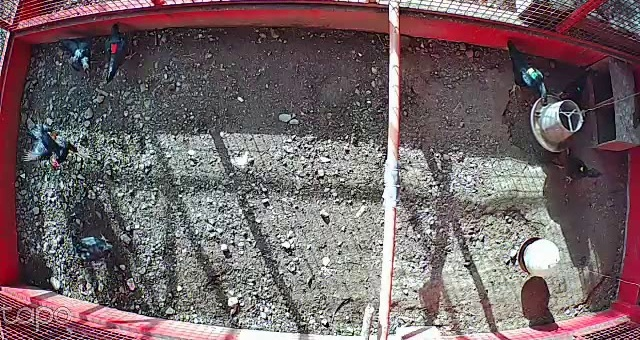Chicken: (503, 40, 550, 107), (57, 228, 121, 266), (102, 22, 139, 85), (547, 67, 596, 107), (550, 152, 604, 188)
Saddle_Color_Red: (110, 42, 119, 53)
Saddle_Color_YellowGreen: (525, 66, 539, 83)
